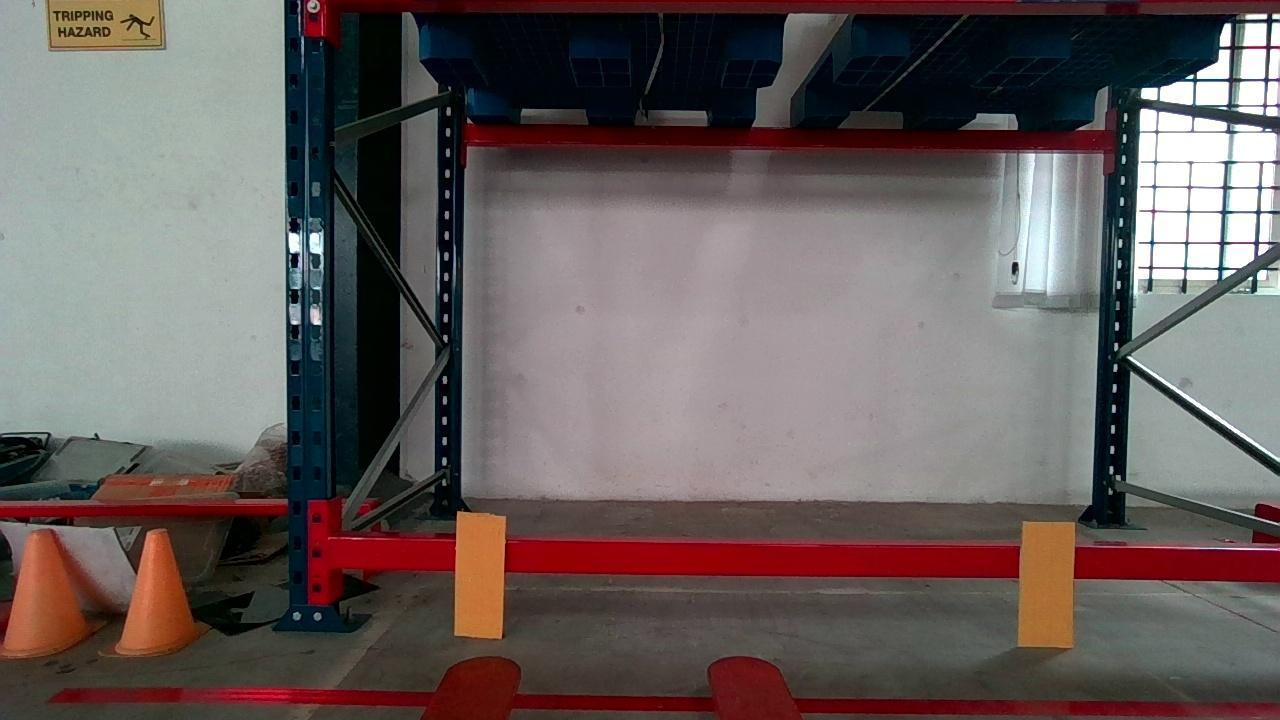h_rack: (326, 535, 1277, 583)
orange_strip: (1015, 519, 1077, 648), (454, 515, 505, 637)
red_line: (50, 685, 1279, 719)
